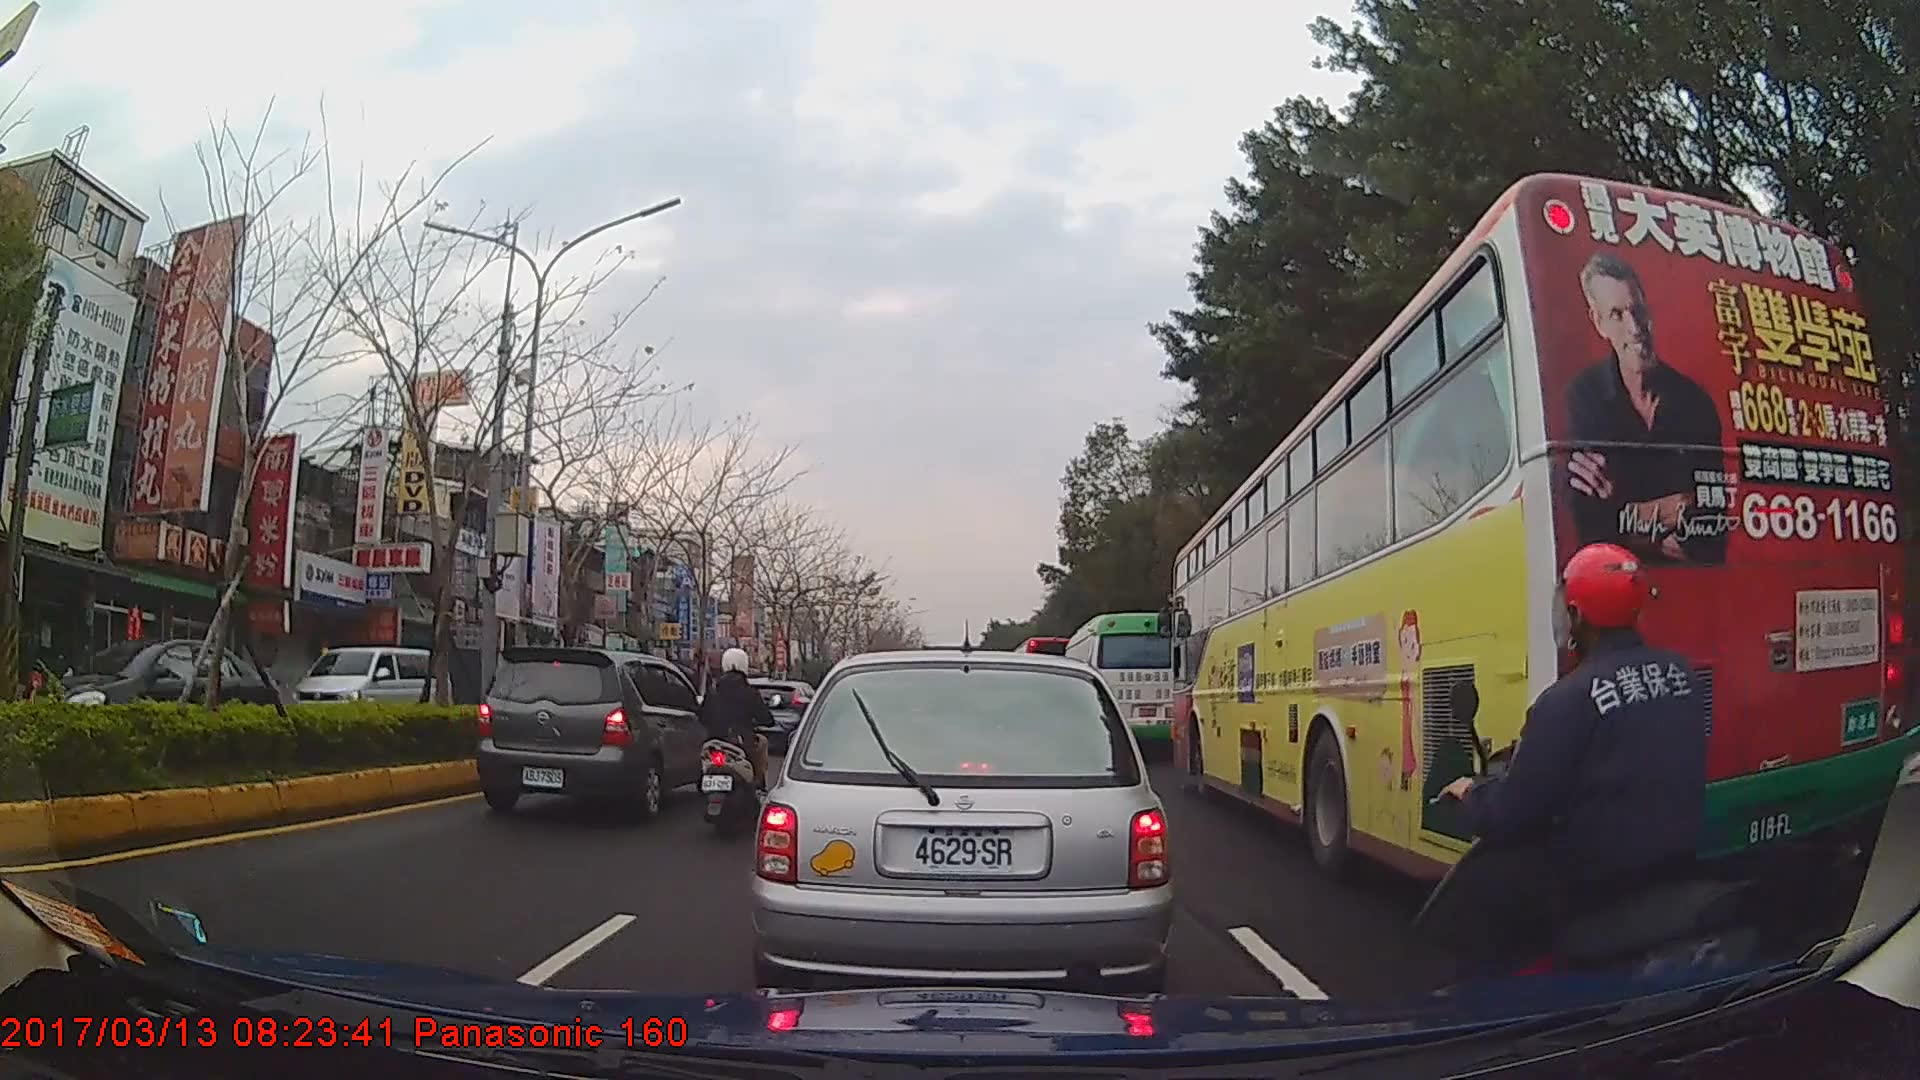rider: (1427, 535, 1759, 1062), (696, 646, 776, 832)
vehicle: (1171, 170, 1902, 893), (751, 651, 1174, 1006), (476, 645, 711, 818), (25, 636, 279, 756), (1061, 610, 1186, 757), (292, 647, 449, 741)
